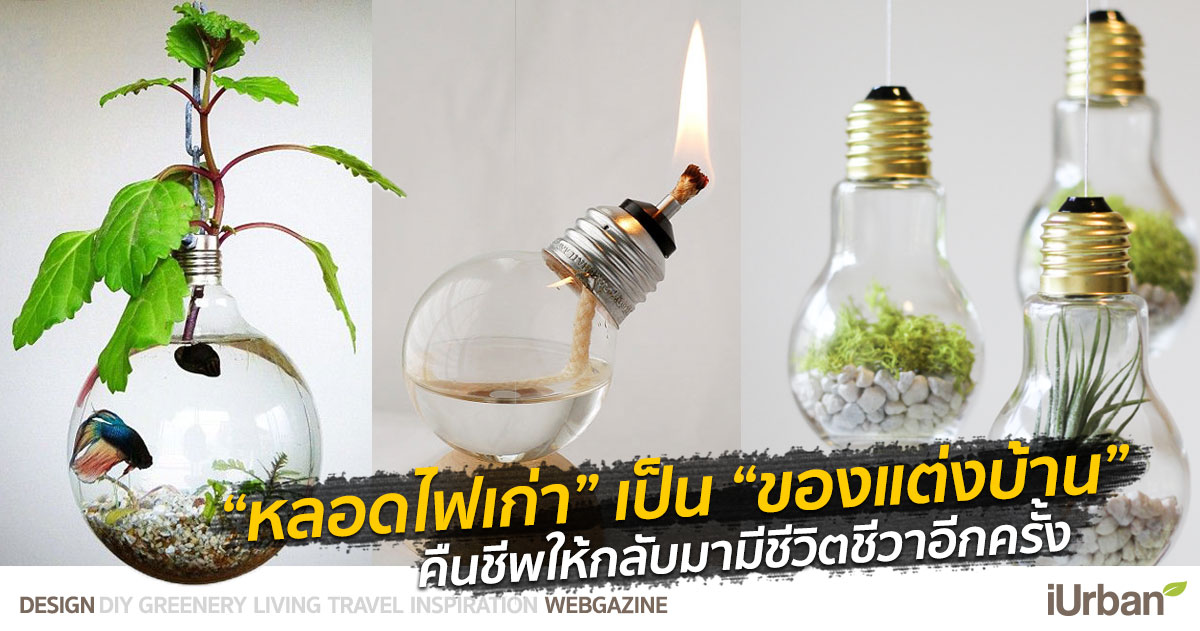Light_bulb: (79, 228, 334, 590), (396, 195, 653, 514), (772, 108, 998, 455), (991, 271, 1199, 574)
